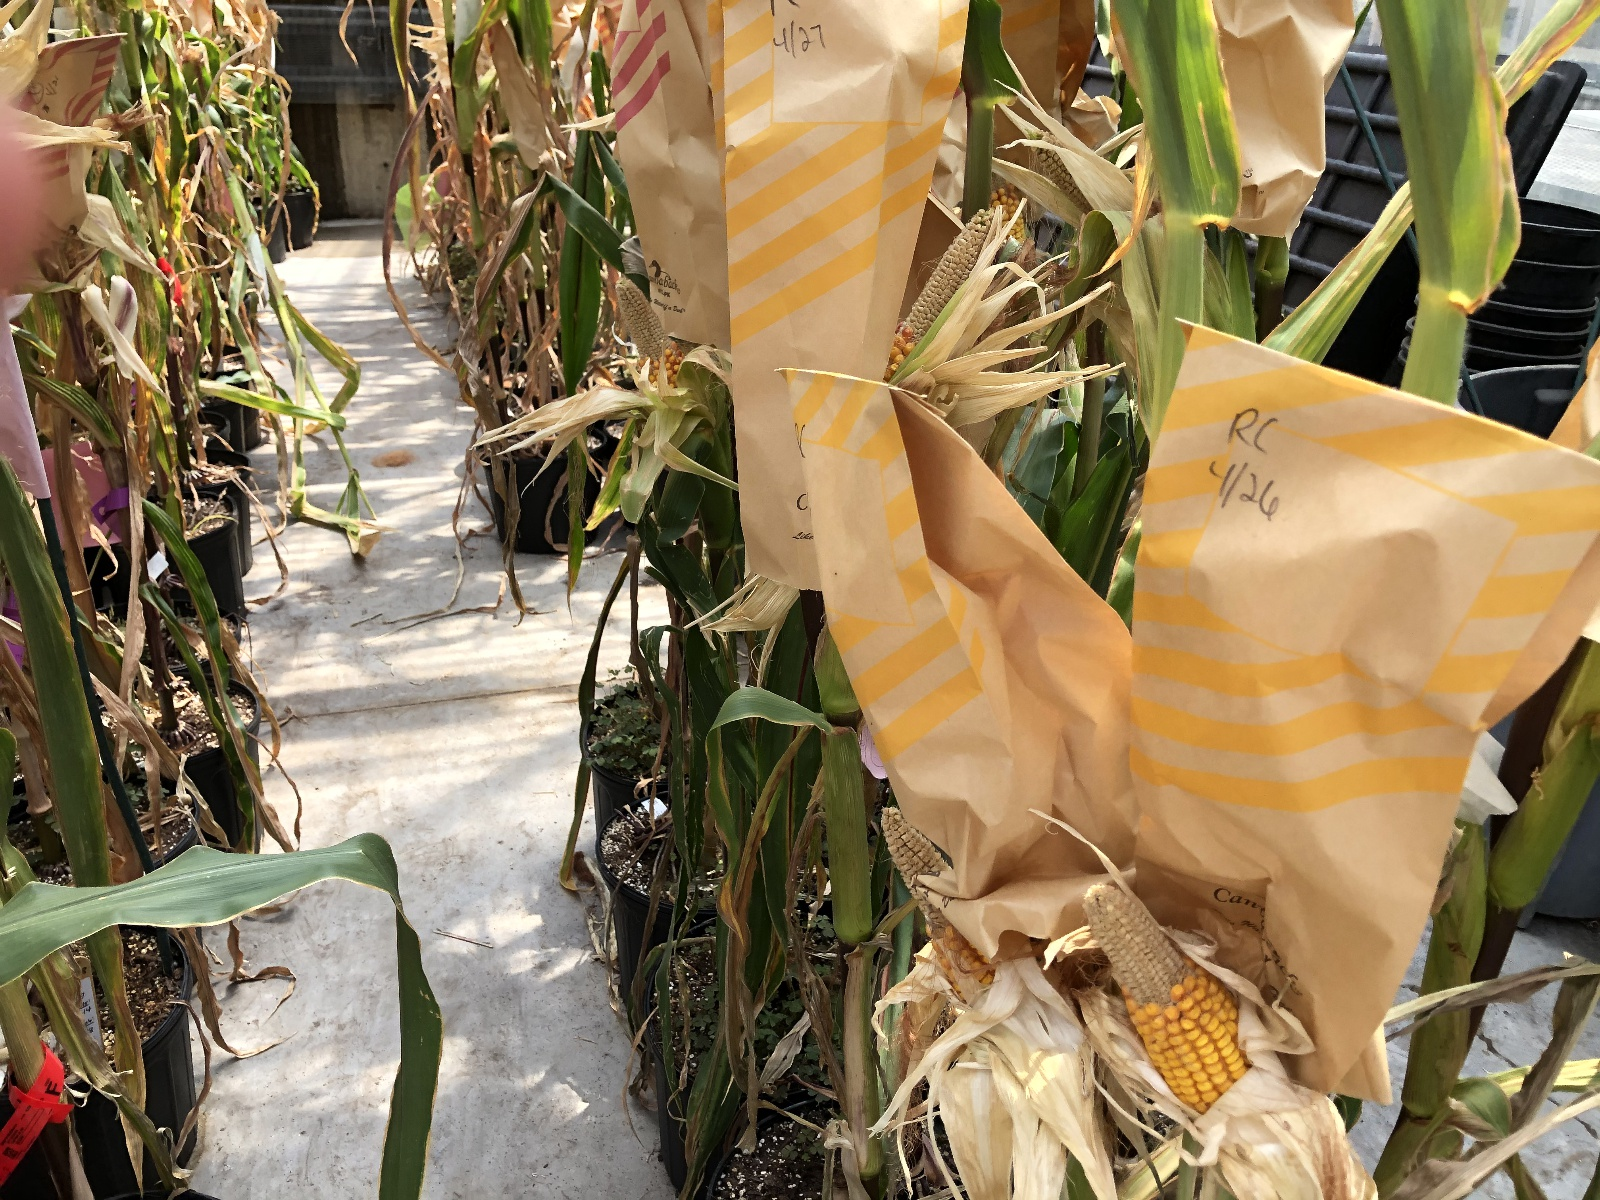ear: (1078, 876, 1266, 1102), (873, 798, 1036, 1026), (873, 203, 998, 408), (609, 263, 700, 391), (1031, 129, 1099, 214), (986, 173, 1036, 246)
